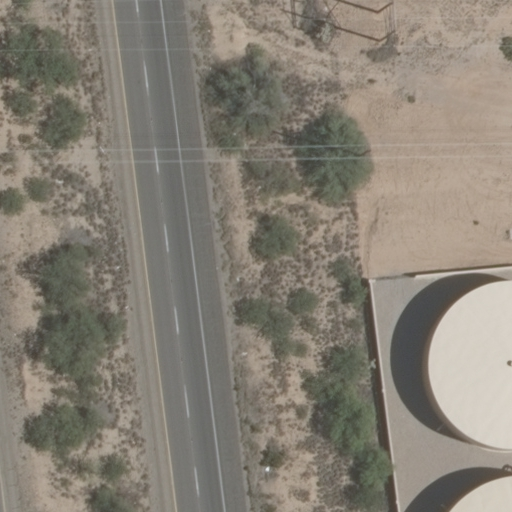DT: (368, 1, 401, 49)
